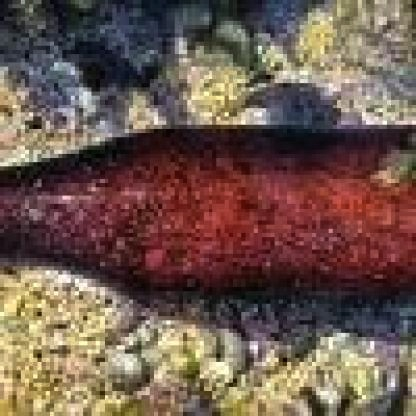gbottle: (4, 125, 412, 295)
